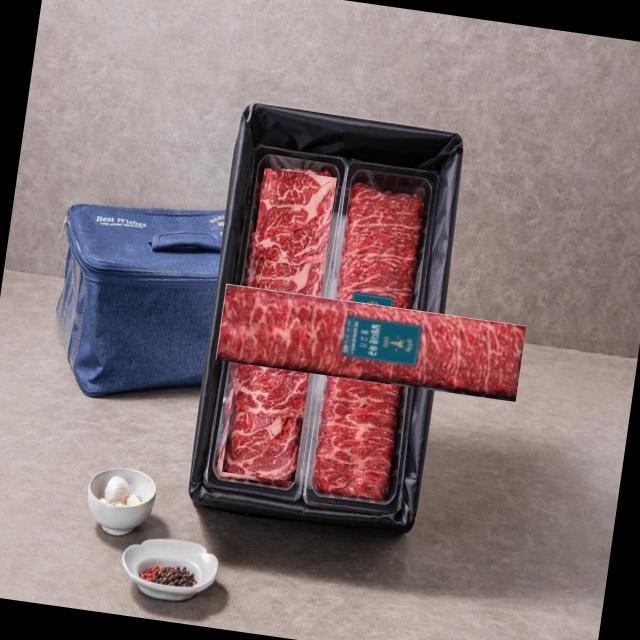beef: (264, 236, 478, 450), (221, 167, 337, 482)
